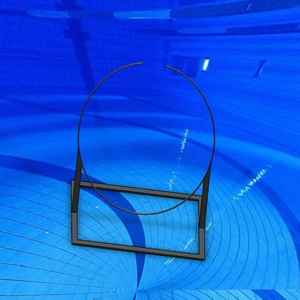circle: (71, 60, 217, 263)
